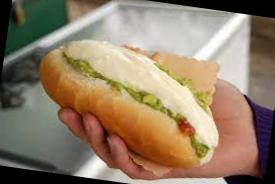Completos: (20, 20, 228, 174)
